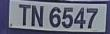4: (73, 5, 87, 32)
5: (60, 5, 75, 31)
6: (46, 3, 62, 31)
7: (85, 5, 99, 31)
N: (31, 3, 47, 31)
T: (18, 3, 31, 29)
